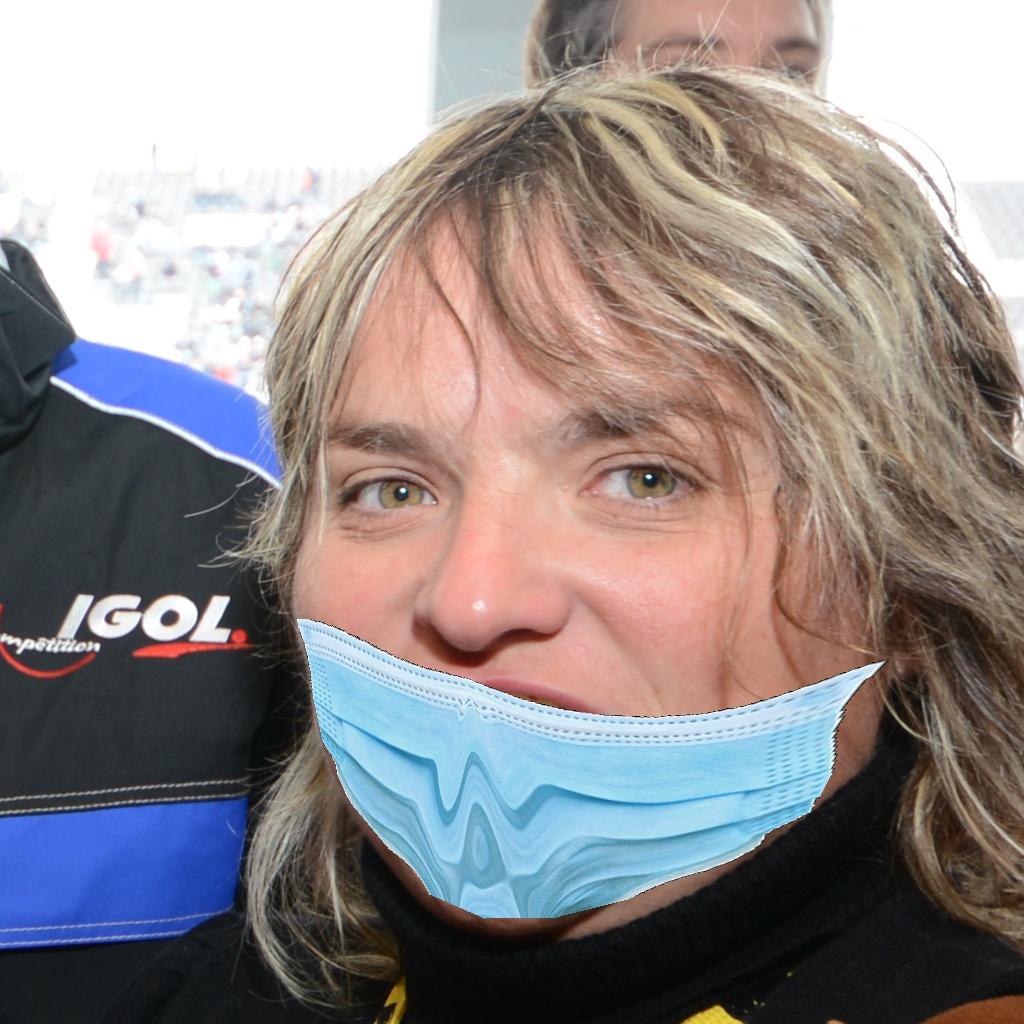mascarilla_mal_puesta: (276, 343, 911, 938)
